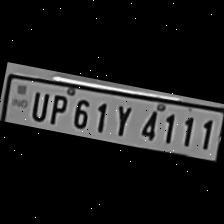1: (192, 114, 218, 150), (88, 96, 112, 134), (156, 108, 181, 144), (176, 110, 198, 147)
4: (134, 102, 164, 142)
6: (66, 92, 94, 130)
P: (44, 89, 70, 126)
U: (26, 86, 50, 122)
Y: (107, 99, 137, 138)
